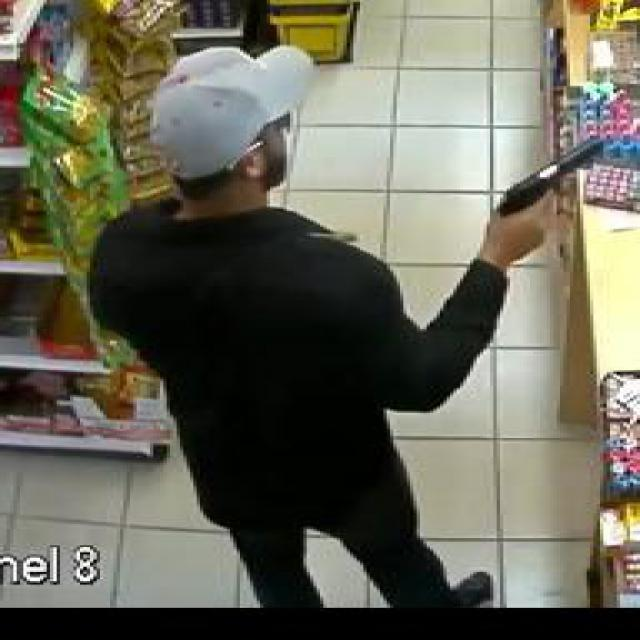gun: (486, 130, 614, 245)
